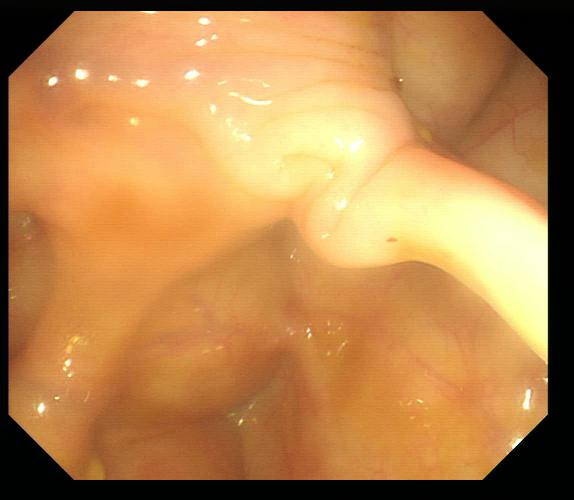polyp: (393, 11, 513, 142), (301, 223, 376, 277), (229, 156, 293, 201)
